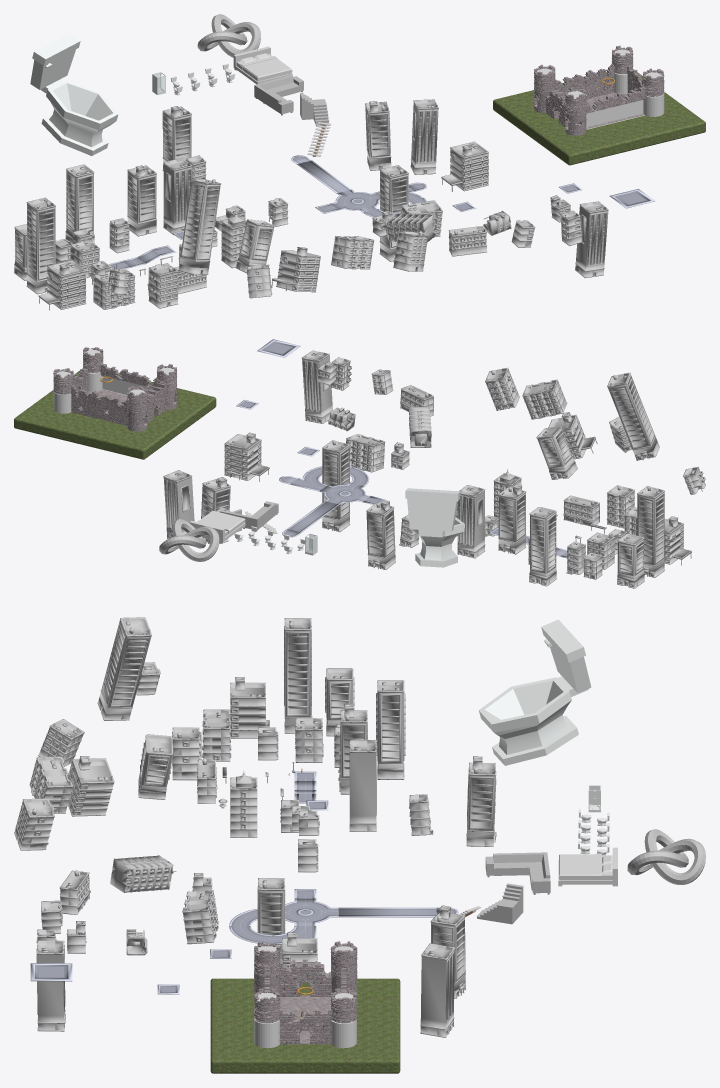
The model's file is mainStageCollider.gltf.
The picture shows the model from 3 angles, top to bottom: view 1: azimuth 30°, elevation 25°; view 2: azimuth 150°, elevation 25°; view 3: azimuth 270°, elevation 25°; orthographic projection. The views are drawn at different scales.
Visible parts, largest first — view 1: Wall.007, toilet(Clone).008, building-skyscraper-d.002, building-skyscraper-d, building-skyscraper-e.001, building-skyscraper-c, building-skyscraper-b, building-skyscraper-e.002, building-skyscraper-e, building-n, building-n.001, building-n.002 (+30 smaller); view 2: Wall.007, toilet(Clone).008, building-skyscraper-d.002, building-skyscraper-d, building-skyscraper-b, building-skyscraper-d.001, building-skyscraper-e, building-skyscraper-c, building-skyscraper-c.001, building-skyscraper-e.001, building-n.001, TorusKnot (+30 smaller); view 3: Wall.007, toilet(Clone).008, building-skyscraper-d.002, building-skyscraper-e.002, building-skyscraper-d, building-skyscraper-b, TorusKnot, building-skyscraper-e, building-skyscraper-c.001, building-n.002, building-skyscraper-e.001, building-n (+26 smaller).
Part boxes in pixels (x1,y1,x2,y2): Wall.007: (493, 45, 705, 165); toilet(Clone).008: (30, 33, 118, 155); building-skyscraper-d.002: (178, 179, 221, 274); building-skyscraper-d: (26, 197, 55, 294); building-skyscraper-e.001: (575, 201, 608, 278); building-skyscraper-c: (127, 165, 156, 236); building-skyscraper-b: (65, 164, 94, 243); building-skyscraper-e.002: (410, 99, 438, 174); building-skyscraper-e: (163, 158, 192, 235); building-n: (38, 260, 86, 310); building-n.001: (441, 141, 488, 191); building-n.002: (271, 247, 320, 292); Wall.007: (14, 347, 216, 459); toilet(Clone).008: (405, 488, 464, 567); building-skyscraper-d.002: (607, 372, 659, 460); building-skyscraper-d: (637, 486, 664, 577); building-skyscraper-b: (529, 507, 556, 586); building-skyscraper-d.001: (322, 440, 350, 532); building-skyscraper-e: (457, 485, 485, 558); building-skyscraper-c: (498, 484, 526, 554); building-skyscraper-c.001: (366, 500, 395, 569); building-skyscraper-e.001: (302, 350, 332, 423); building-n.001: (224, 432, 269, 481); TorusKnot: (159, 519, 219, 561); Wall.007: (210, 941, 400, 1073); toilet(Clone).008: (478, 619, 591, 765); building-skyscraper-d.002: (97, 617, 151, 720); building-skyscraper-e.002: (420, 943, 455, 1037); building-skyscraper-d: (284, 618, 312, 733); building-skyscraper-b: (376, 680, 405, 779); TorusKnot: (627, 829, 705, 884); building-skyscraper-e: (349, 740, 376, 831); building-skyscraper-c.001: (466, 756, 496, 846); building-n.002: (67, 756, 114, 816); building-skyscraper-e.001: (36, 940, 65, 1031); building-n: (230, 677, 269, 738).
Bounding box in the file's own units: 510 × 134 × 381.
